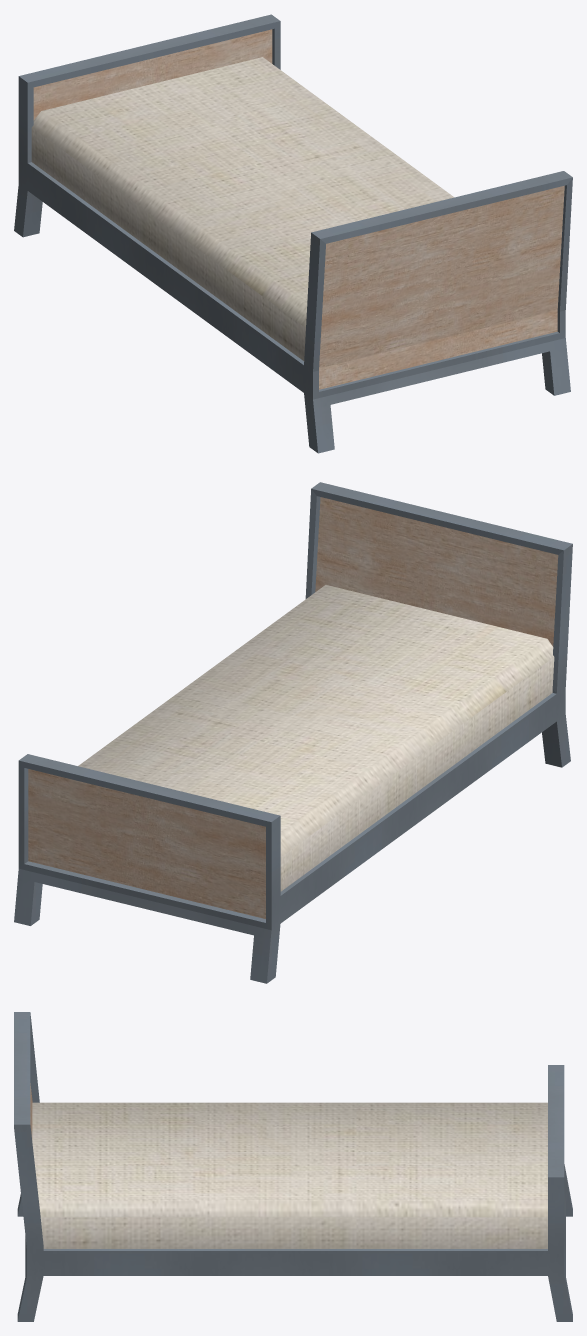
Rendered from Bed_08-col.glb.
3 renders of one model, top to bottom at view 1: azimuth 30°, elevation 25°; view 2: azimuth 150°, elevation 25°; view 3: azimuth 270°, elevation 25°, orthographic. The views are drawn at different scales.
Visible parts, largest first — view 1: Bed_08-col; view 2: Bed_08-col; view 3: Bed_08-col.
Boxes of the visible parts, x1=… form: Bed_08-col: x1=14, y1=14, x2=572, y2=453; Bed_08-col: x1=14, y1=482, x2=572, y2=983; Bed_08-col: x1=14, y1=1012, x2=572, y2=1321.
Size of the model in its own units: 1.23 by 1.01 by 2.59.
3 materials, 3 textured.
